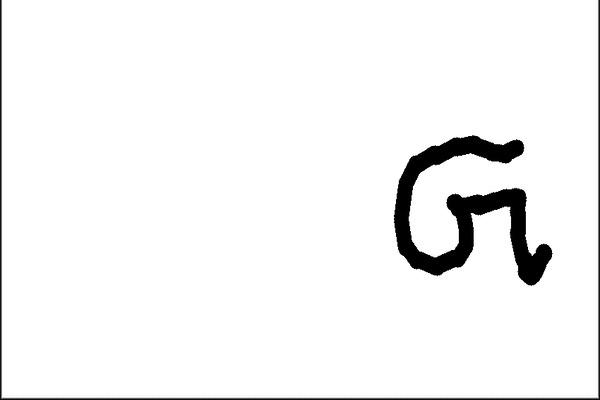G: (390, 131, 555, 291)
